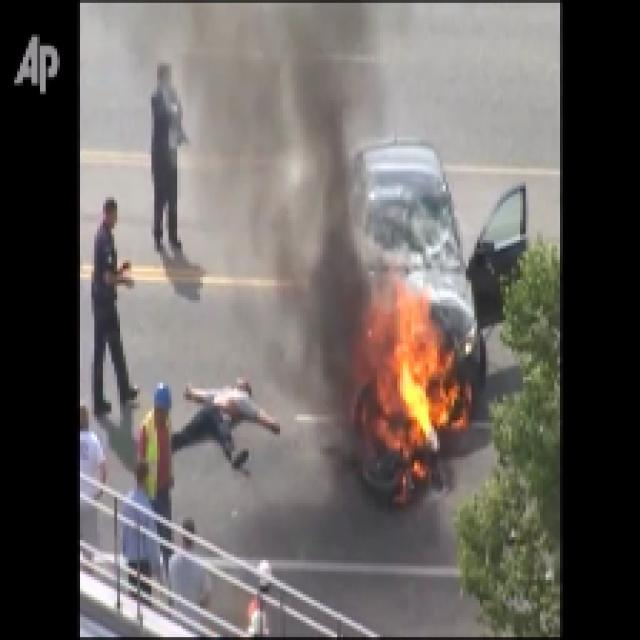Fire: (352, 288, 468, 461)
Smoke: (254, 3, 389, 406)
